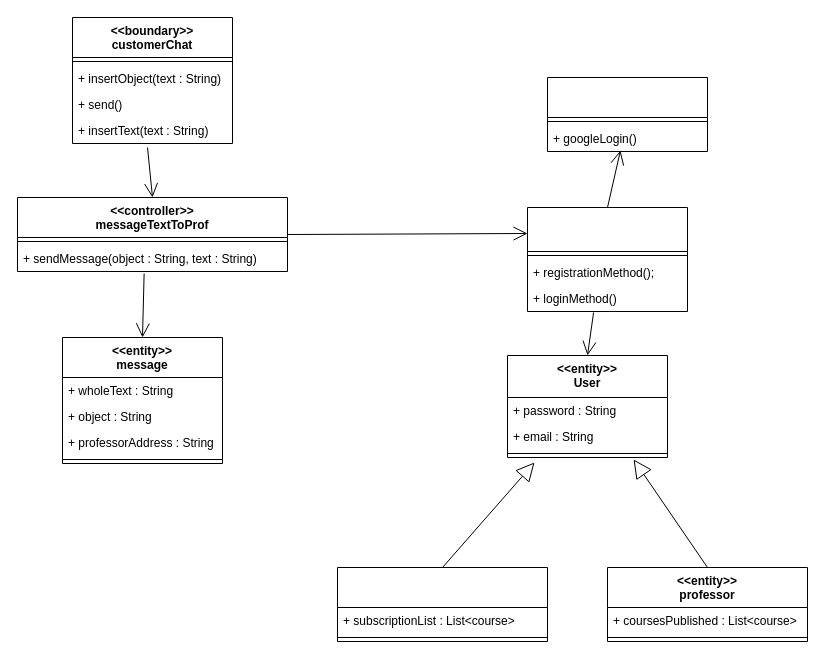
The diagram is 825 pixels wide and 659 high, and some of its shapes have lost their labels. The box of each missing label's shape, as (x1, y1, x2, y2) in pixels:
<<boundary>> googleLogin: (546, 76, 708, 152)
<<controller>> login: (526, 206, 688, 312)
<<entity>> customer: (336, 566, 548, 642)
